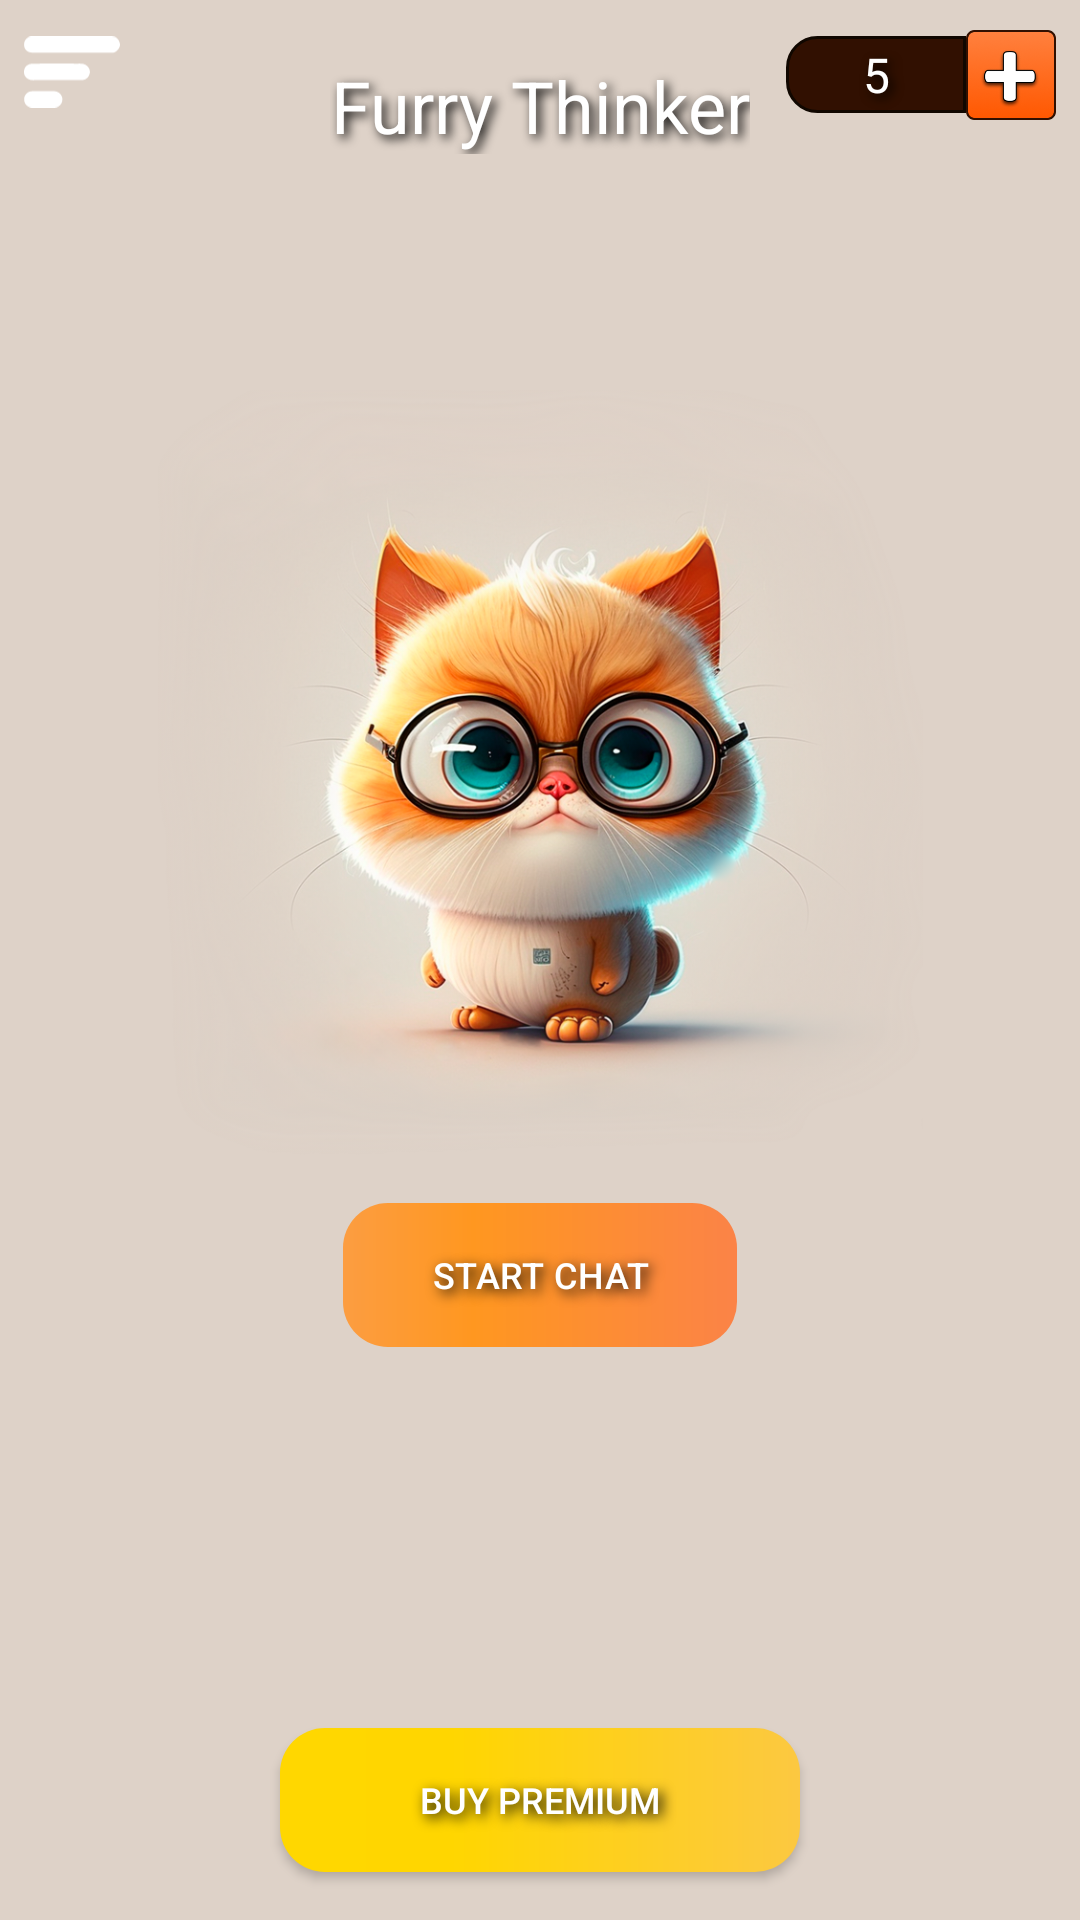

Icon bounding boxes for this 1080*1920 phone screenshot, format (x1, y1, x2, y2):
menu: (24, 36, 120, 108)
plus ads: (966, 30, 1056, 120)
